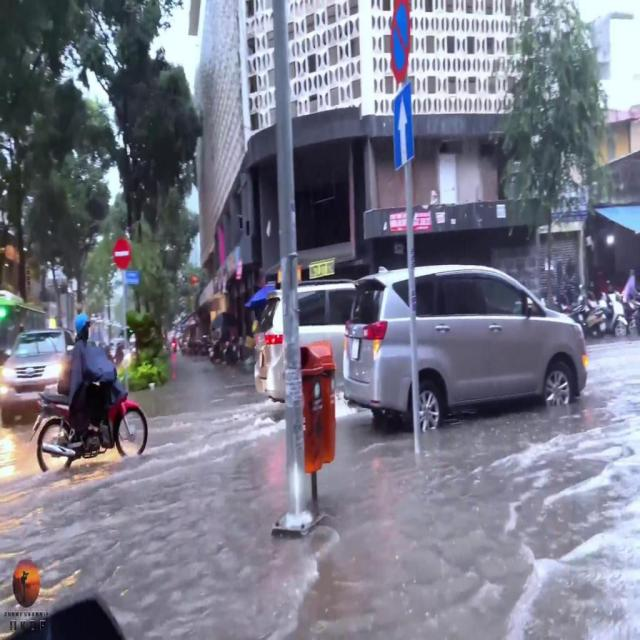cam_do_xe: (390, 0, 411, 81)
cam_xe_di_nguoc_chieu: (113, 238, 133, 270)
duong_mot_chieu: (393, 81, 414, 170)
